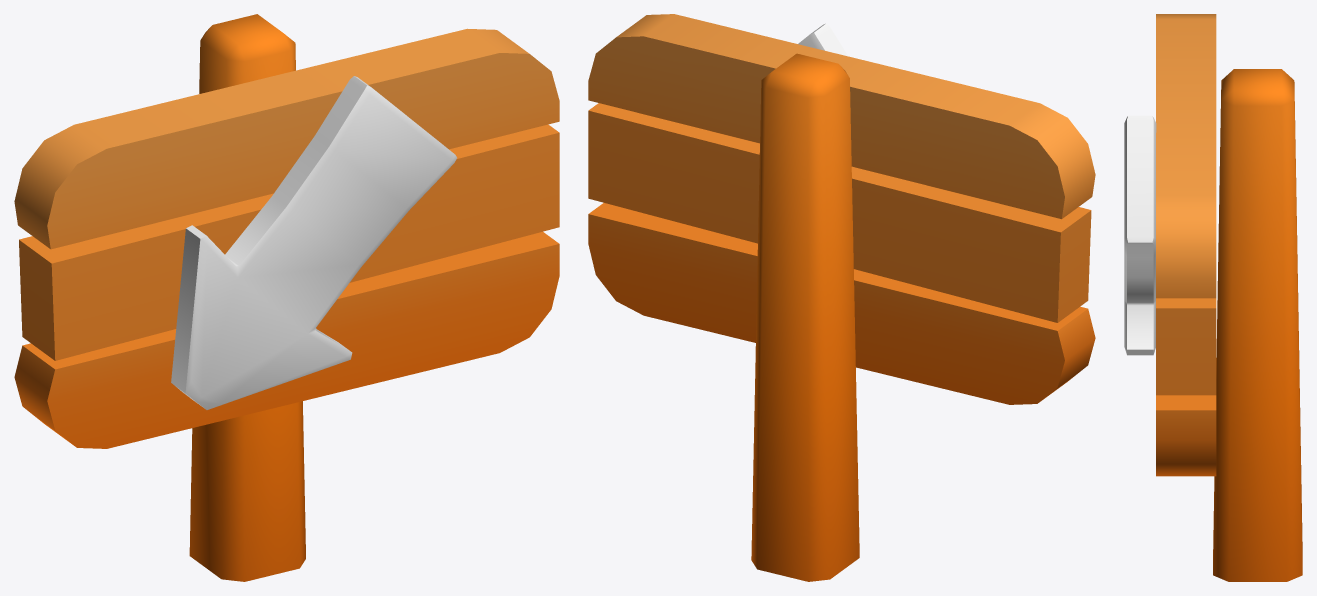
Rendered from Prop_Wooden_Sign_08.fbx.
The picture shows the model from 3 angles, left to right: view 1: azimuth 30°, elevation 25°; view 2: azimuth 150°, elevation 25°; view 3: azimuth 270°, elevation 25°; orthographic projection. The views are drawn at different scales.
Visible parts, largest first — view 1: Prop_Wooden_Sign_08; view 2: Prop_Wooden_Sign_08; view 3: Prop_Wooden_Sign_08.
Boxes of the visible parts, x1,y1,x2,y2 form: Prop_Wooden_Sign_08: [14, 14, 559, 581]; Prop_Wooden_Sign_08: [588, 14, 1095, 581]; Prop_Wooden_Sign_08: [1124, 14, 1302, 581].
Bounding box in the file's own units: 90.11 × 88.8 × 29.65.
